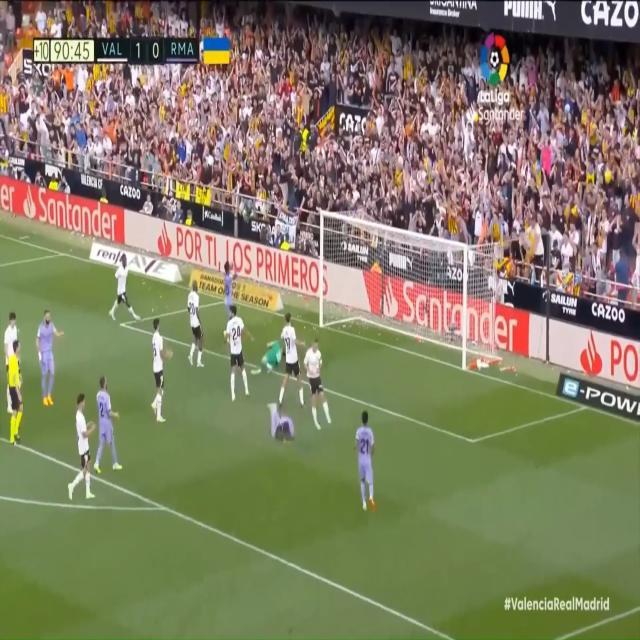goalkeeper: (253, 331, 288, 381)
player: (66, 390, 96, 502), (91, 374, 122, 474), (305, 337, 335, 433), (276, 313, 305, 409), (36, 301, 61, 410), (355, 410, 379, 514), (227, 304, 252, 399), (109, 252, 139, 323), (149, 313, 167, 425), (187, 280, 206, 370), (3, 310, 24, 386), (263, 402, 296, 443), (222, 260, 238, 340)
referee: (9, 337, 25, 445)
